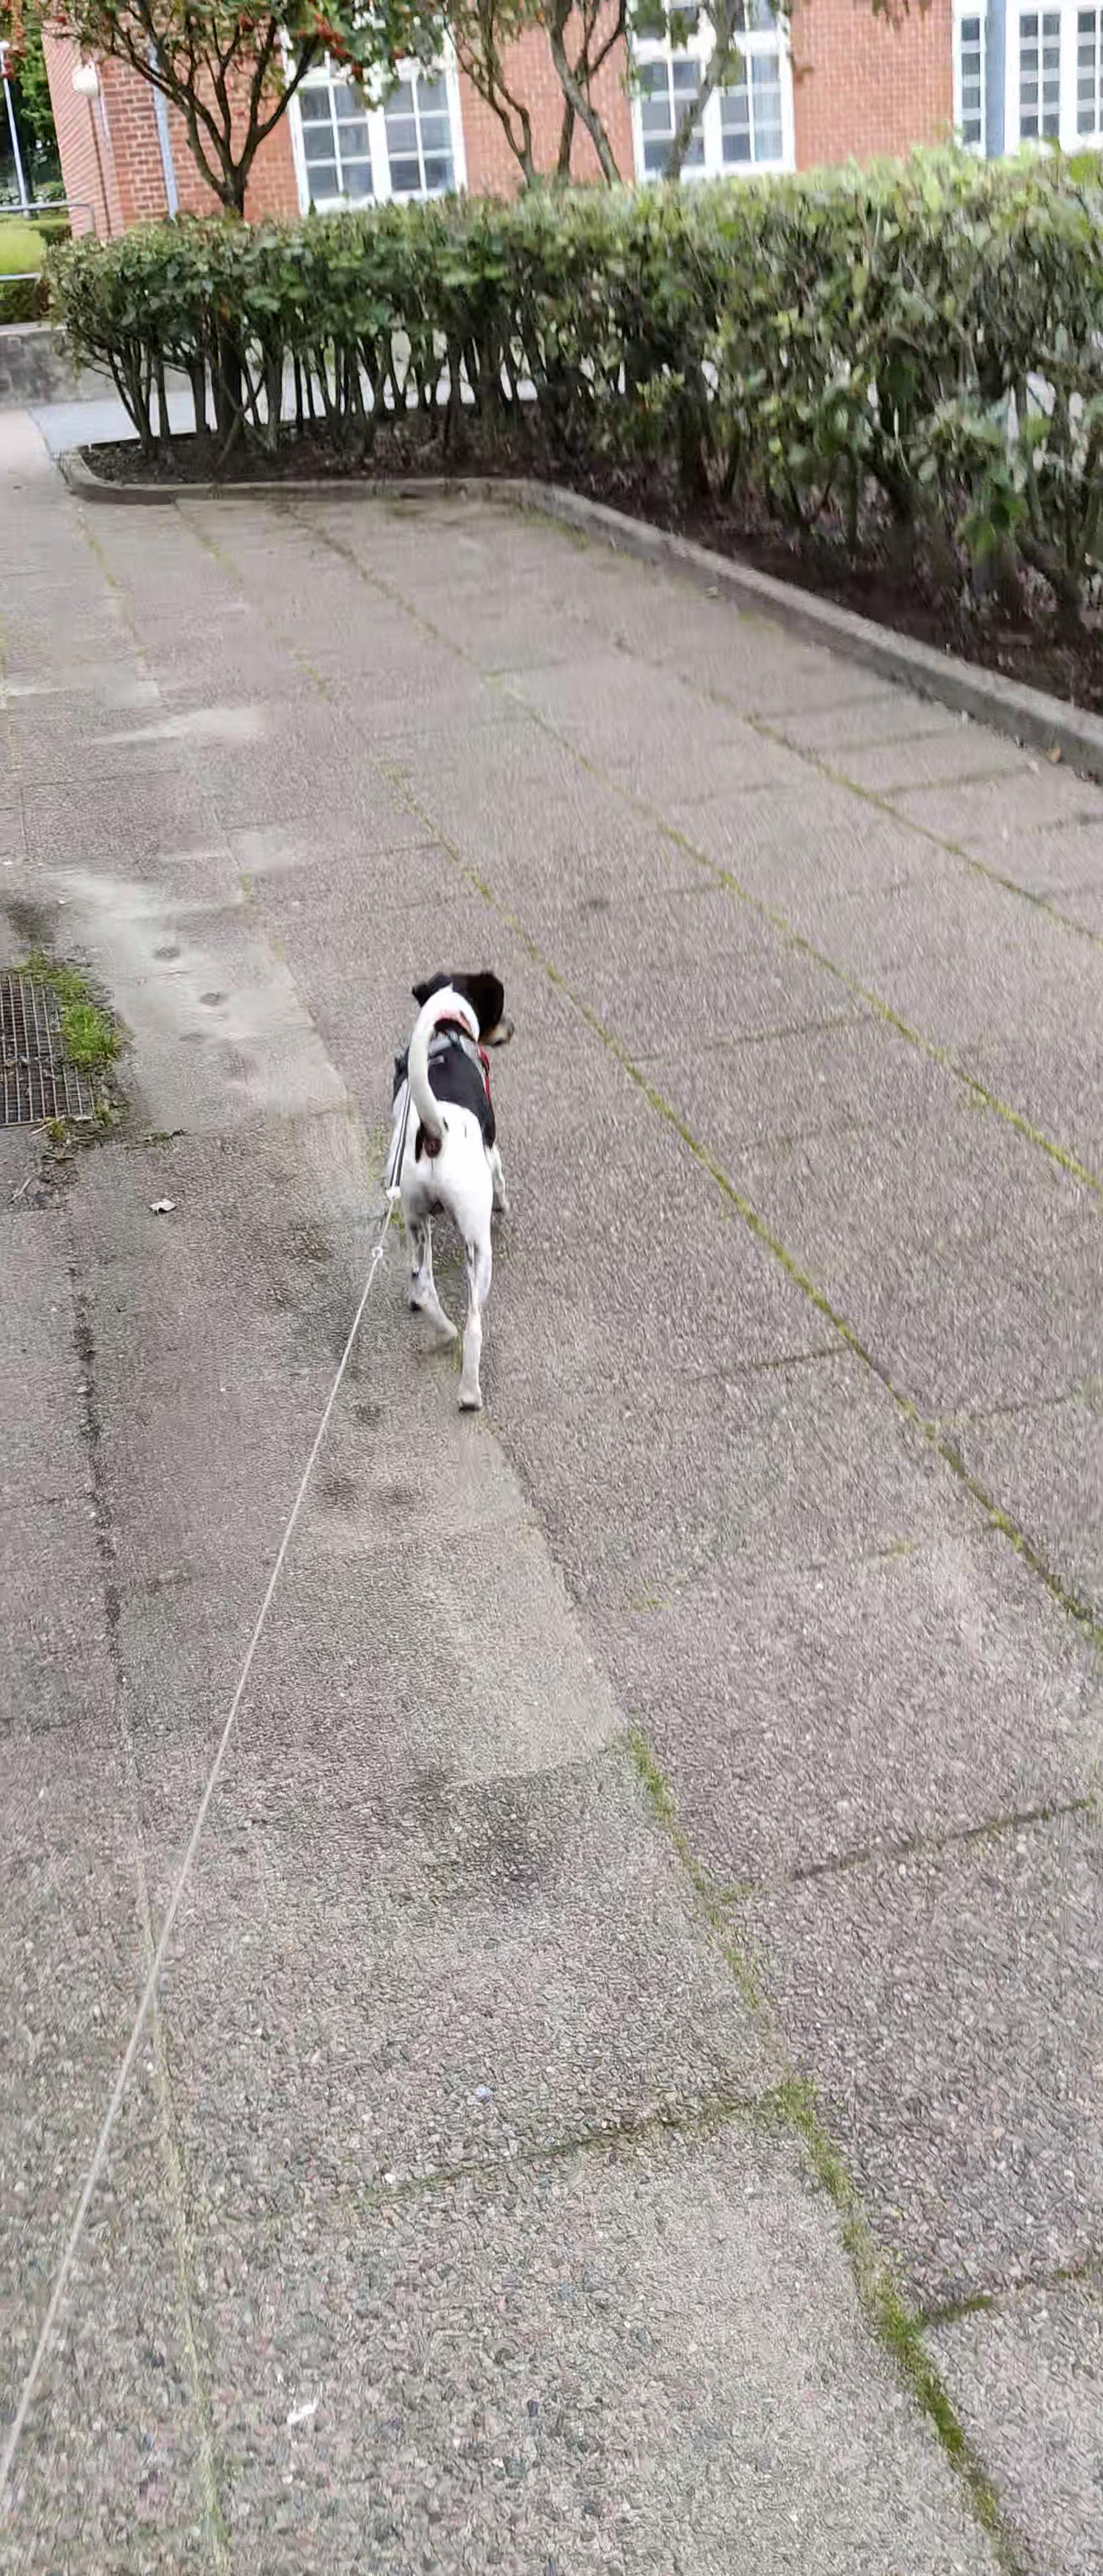Dog: (375, 966, 523, 1421)
